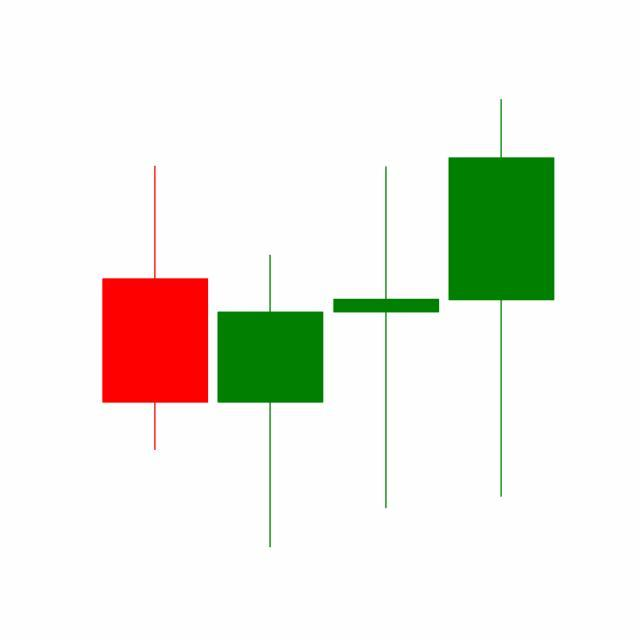Spinning Top: (329, 163, 445, 513)
